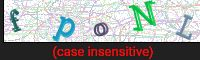L: (175, 13, 195, 41)
N: (127, 1, 161, 34)
f: (6, 4, 26, 37)
o: (90, 18, 111, 39)
p: (46, 13, 79, 42)
